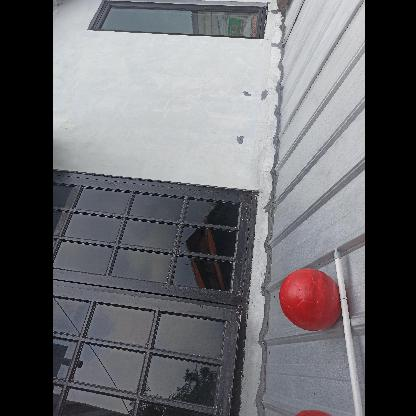red_ball: (278, 268, 340, 332)
